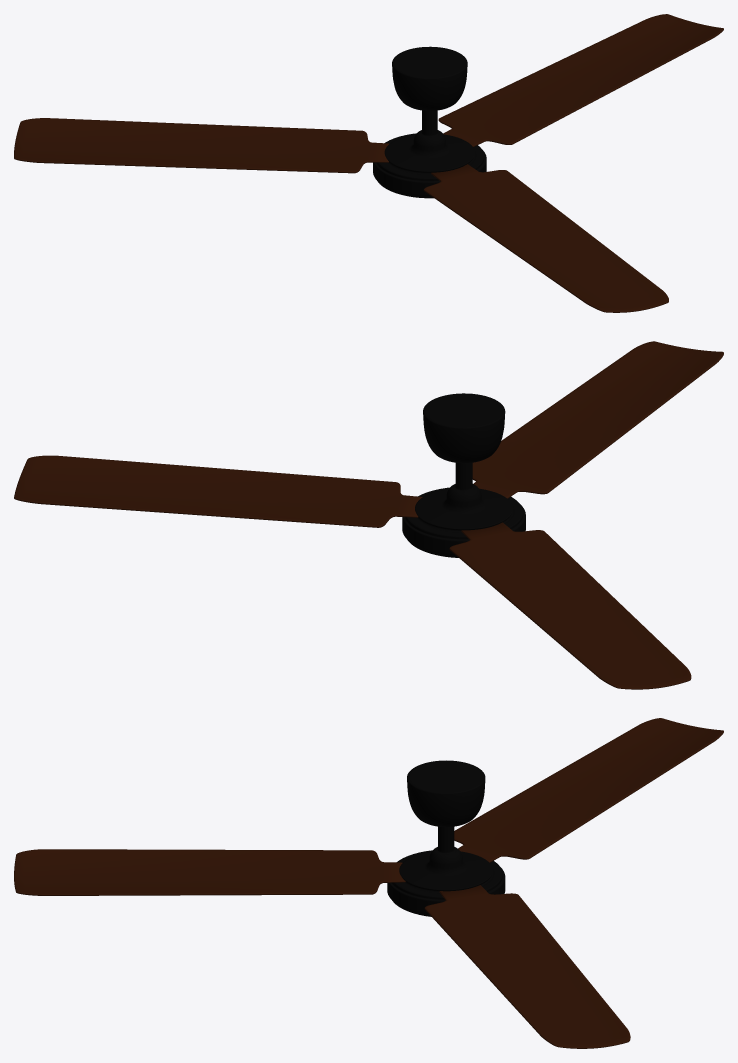
File: ceilingfan.obj
3 views of the same model, one above another, from view 1: azimuth 30°, elevation 25°; view 2: azimuth 150°, elevation 25°; view 3: azimuth 270°, elevation 25° (orthographic). The views are drawn at different scales.
Visible parts, largest first — view 1: arch20_102_00_Material.001, arch20_102_00_Material.002; view 2: arch20_102_00_Material.001, arch20_102_00_Material.002; view 3: arch20_102_00_Material.001, arch20_102_00_Material.002.
Boxes of the visible parts, <box> form: arch20_102_00_Material.001: <box>14,14,723,312</box>; arch20_102_00_Material.002: <box>373,46,486,198</box>; arch20_102_00_Material.001: <box>14,341,723,689</box>; arch20_102_00_Material.002: <box>402,393,525,557</box>; arch20_102_00_Material.001: <box>14,718,723,1048</box>; arch20_102_00_Material.002: <box>387,760,505,916</box>.
Bounding box in the file's own units: 88.54 × 15.57 × 79.53.
